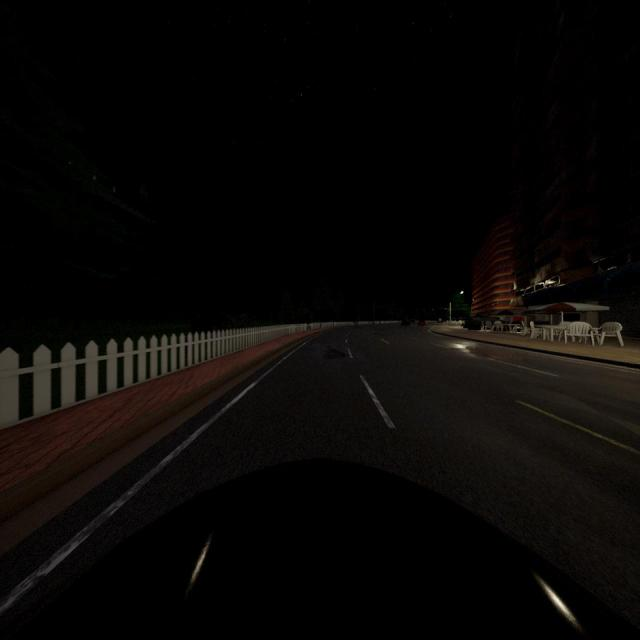Vehicle: (0, 459, 640, 640), (401, 317, 416, 326), (417, 319, 428, 326)
traffic_light: (432, 308, 434, 310), (446, 308, 446, 309), (450, 315, 450, 318)
